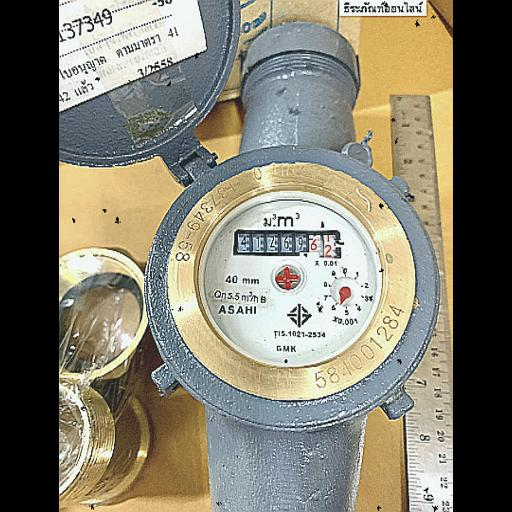1: (254, 234, 265, 252)
2: (324, 235, 334, 257), (267, 234, 278, 252)
4: (238, 234, 250, 252)
6: (281, 234, 293, 252), (310, 235, 321, 252)
9: (296, 234, 306, 252)
border_water_meter_number: (234, 230, 342, 259)
